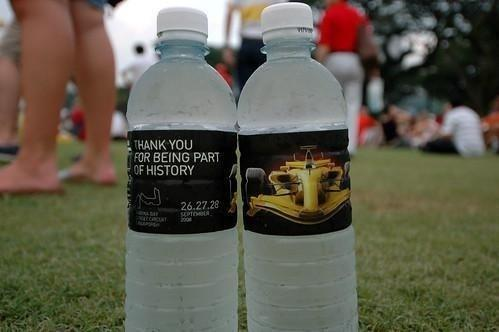bottle-plastic: (238, 2, 359, 331), (123, 3, 237, 331)
